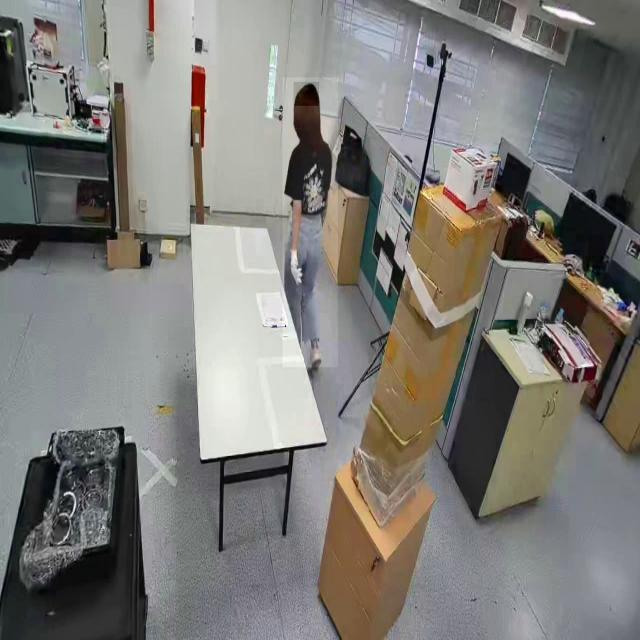hand_glove: (290, 244, 306, 294)
head_nohelmet: (294, 82, 320, 106)
person: (282, 77, 338, 368)
